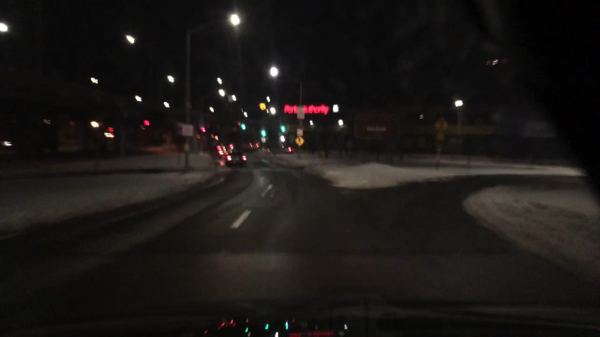car: (226, 150, 245, 166), (282, 146, 293, 152), (250, 142, 259, 149), (215, 145, 227, 149), (228, 143, 236, 149), (220, 149, 228, 154), (297, 196, 301, 198)
traffic light: (280, 124, 285, 134), (241, 121, 245, 131), (260, 128, 264, 137)
traffic sign: (354, 112, 397, 139), (215, 137, 261, 142), (435, 117, 448, 132), (181, 123, 194, 138), (294, 136, 305, 147), (297, 105, 303, 119), (436, 133, 444, 142), (296, 129, 303, 136), (281, 136, 285, 142)
